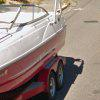Boat: (2, 2, 78, 98)
